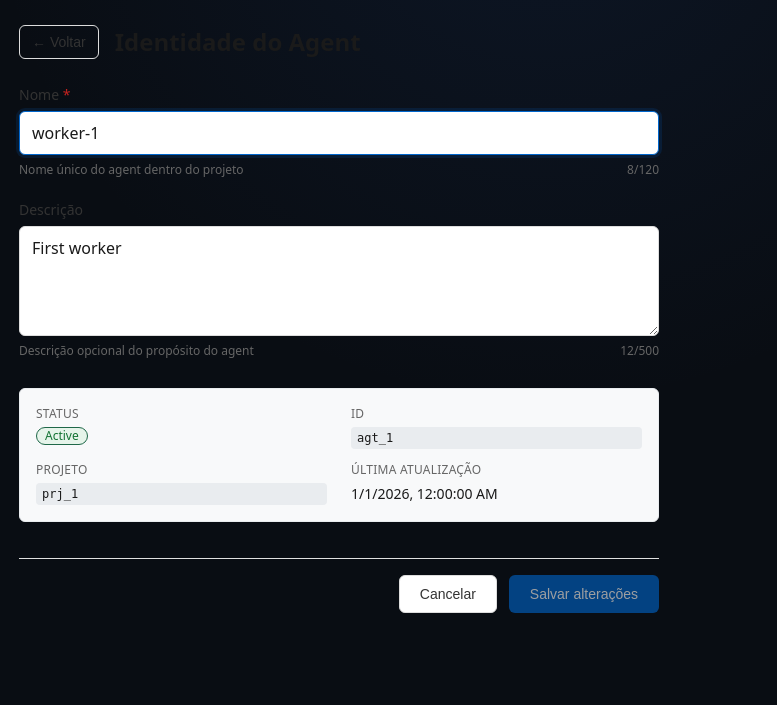
Test: AgentIdentityPage › handles stale version error
Replace the text in the field labelled "Nome *" with "updated-name" at (339, 133), box x1=19 y1=111 x2=659 y2=155
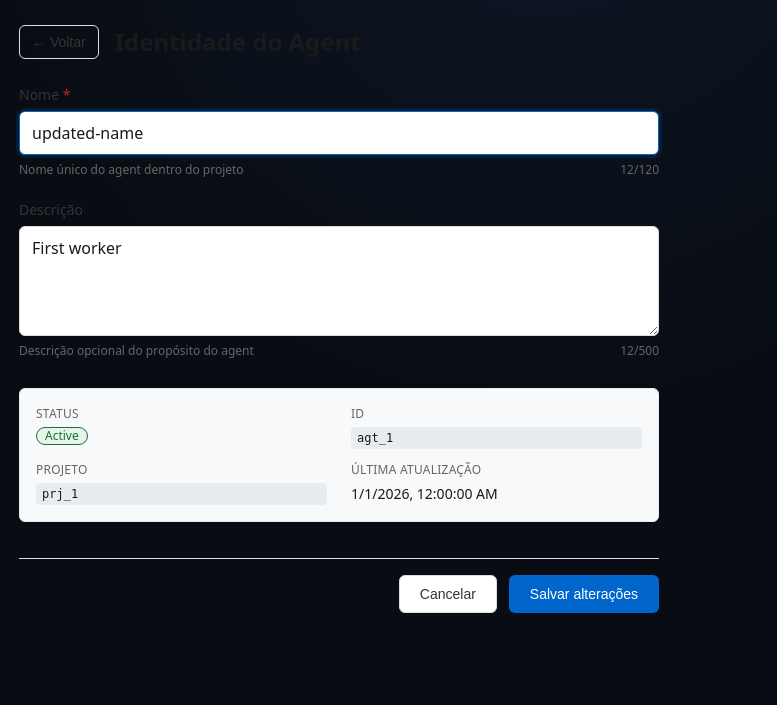
Click the button "Salvar alterações" at (584, 594), box x1=509 y1=575 x2=659 y2=613
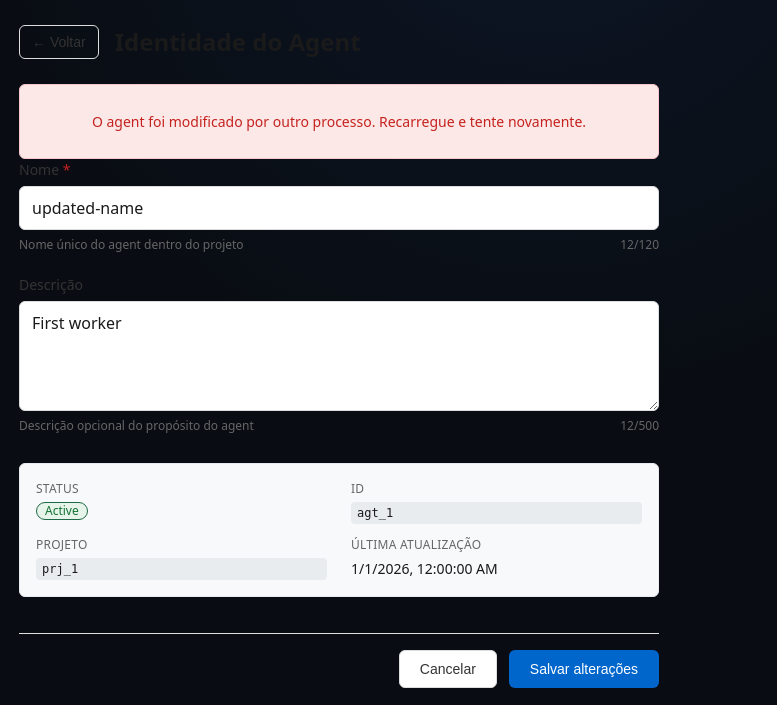
Result: the text "O agent foi modificado por outro processo. Recarregue e tente novamente." is shown at x1=92 y1=112 x2=586 y2=131
